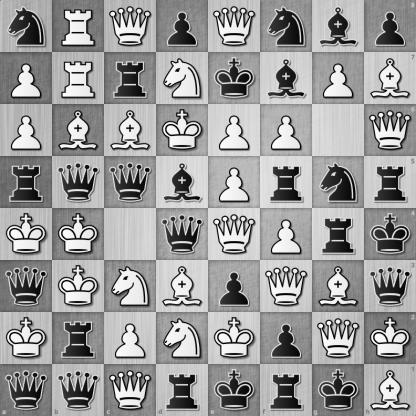B: (364, 52, 416, 104), (364, 364, 416, 416), (53, 105, 104, 156), (105, 105, 156, 156), (157, 261, 208, 312), (313, 261, 364, 312)
K: (364, 312, 416, 364), (1, 209, 52, 260), (1, 313, 52, 364), (53, 209, 104, 260), (53, 261, 104, 312), (157, 105, 208, 156), (209, 313, 260, 364)
N: (105, 261, 156, 312), (157, 53, 208, 104), (157, 313, 208, 364)
P: (1, 53, 52, 104), (1, 105, 52, 156), (105, 313, 156, 364), (209, 105, 260, 156), (209, 157, 260, 208), (261, 105, 312, 156), (261, 209, 312, 260), (313, 53, 364, 104)
Q: (104, 364, 156, 416), (364, 104, 416, 156), (105, 1, 156, 52), (209, 1, 260, 52), (209, 209, 260, 260), (261, 261, 312, 312), (313, 313, 364, 364)
R: (53, 1, 104, 52), (53, 53, 104, 104)
b: (157, 157, 208, 208), (261, 53, 312, 104), (313, 1, 364, 52)
board: (0, 0, 415, 415)
k: (312, 364, 364, 416), (209, 364, 260, 416), (364, 209, 416, 260), (209, 53, 260, 104)
n: (1, 1, 52, 52), (261, 1, 312, 52), (313, 157, 364, 208)
p: (364, 0, 416, 52), (157, 1, 208, 52), (209, 261, 260, 312), (261, 313, 312, 364)
q: (0, 364, 52, 416), (52, 364, 104, 416), (364, 260, 416, 312), (1, 261, 52, 312), (53, 157, 104, 208), (105, 157, 156, 208), (157, 209, 208, 260)
r: (156, 364, 209, 416), (364, 156, 416, 209), (260, 364, 312, 416), (1, 157, 52, 208), (53, 313, 104, 364), (105, 53, 156, 104), (261, 157, 312, 208), (313, 209, 364, 260)
